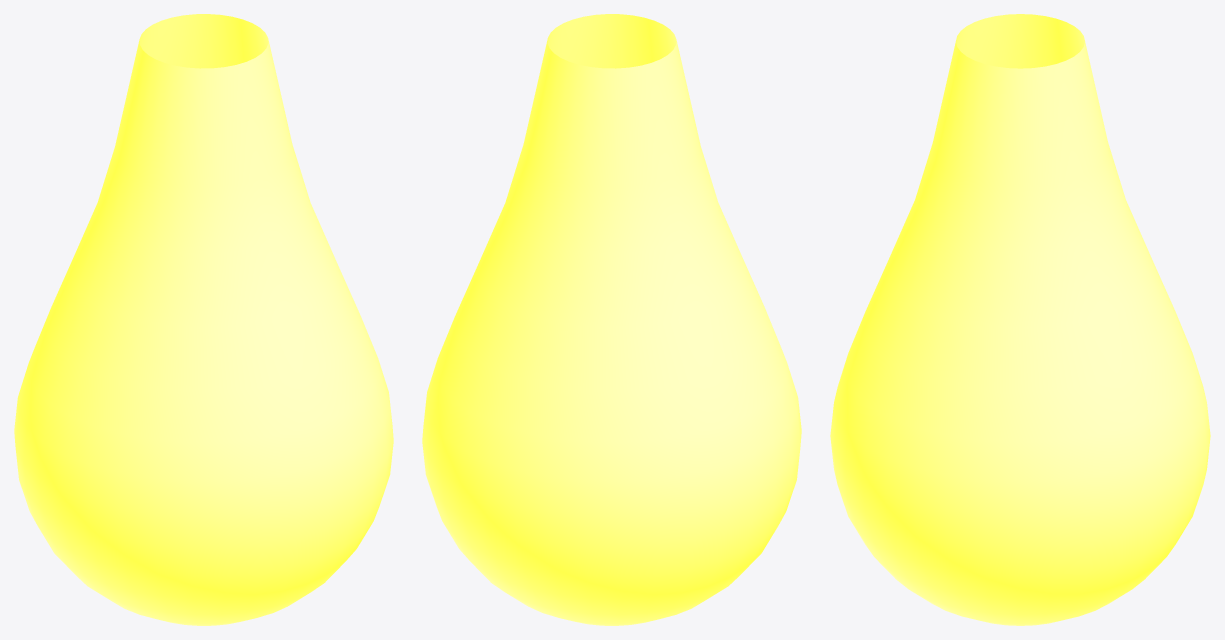
The model's file is Flame.glb.
3 renders of one model, left to right at view 1: azimuth 30°, elevation 25°; view 2: azimuth 150°, elevation 25°; view 3: azimuth 270°, elevation 25°, orthographic.
Parts seen in each view (by area): view 1: Flame; view 2: Flame; view 3: Flame.
Part boxes in pixels (x1,y1,x2,y2): Flame: [14, 14, 393, 625]; Flame: [422, 14, 801, 625]; Flame: [830, 14, 1210, 625].
Bounding box in the file's own units: 2 × 3.29 × 2.
